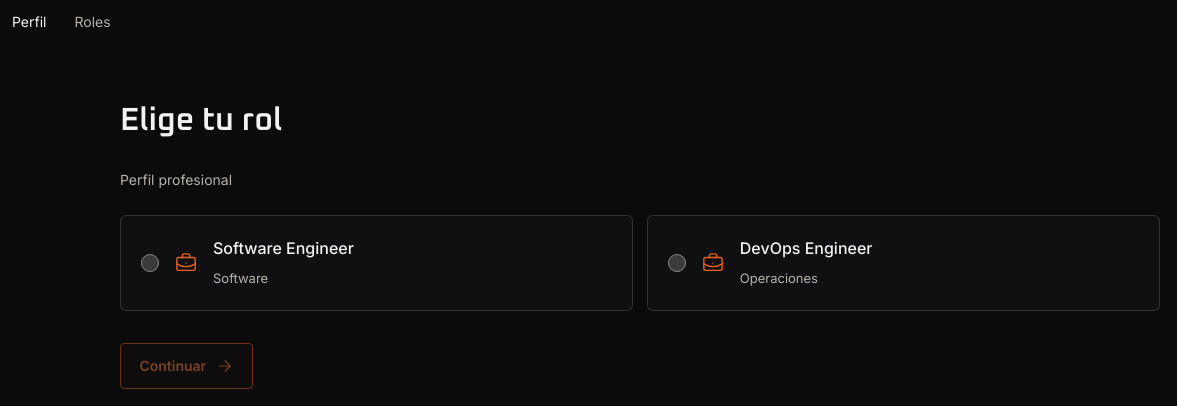
it: flujo de roles y placement › rechaza un banco incompleto en lugar de inventar preguntas
The width and height of the screenshot is (1177, 406).
Click the radio button labelled "Software Engineer Software". click: x=150, y=263
box: [141,254,159,272]
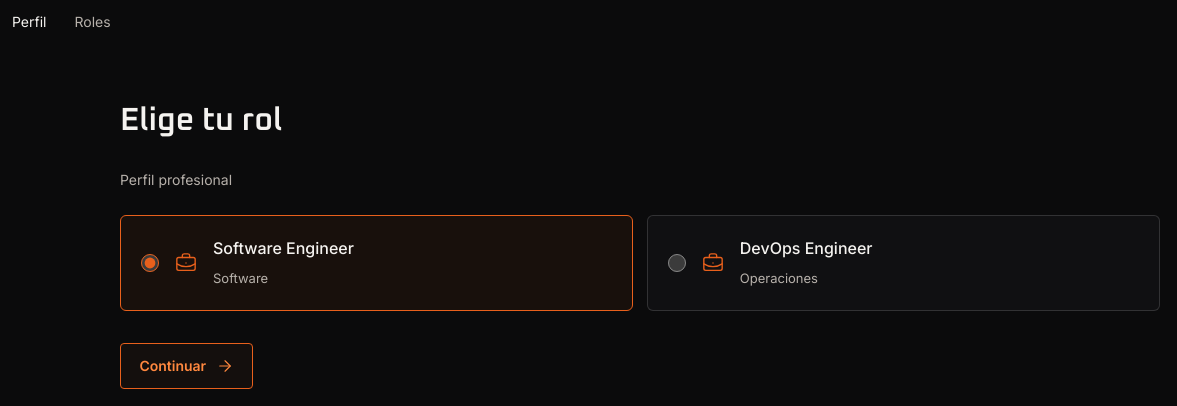
Click the button "Continuar". click: x=187, y=366
box: [120,343,253,389]
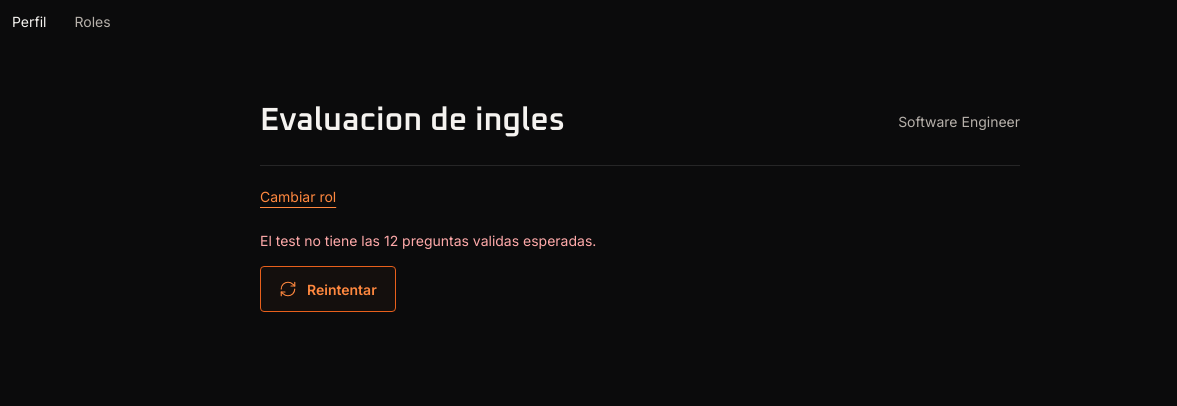
Check: the message shows "12 preguntas validas", box [260,232,596,249]
